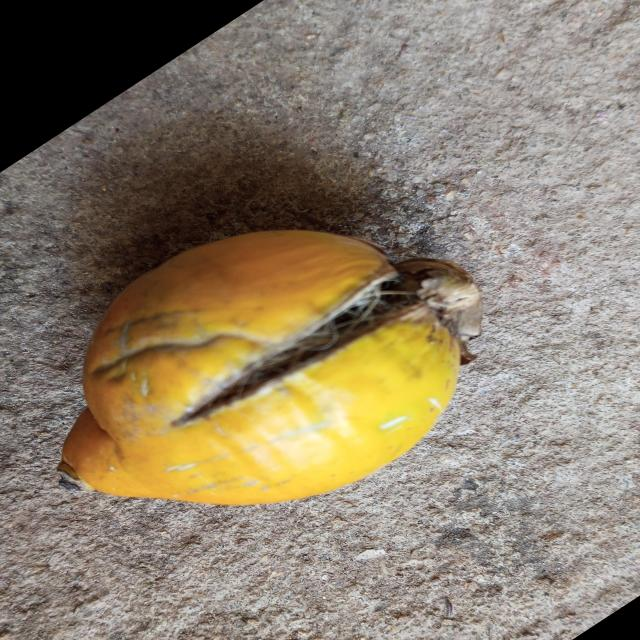damaged: (57, 231, 483, 504)
